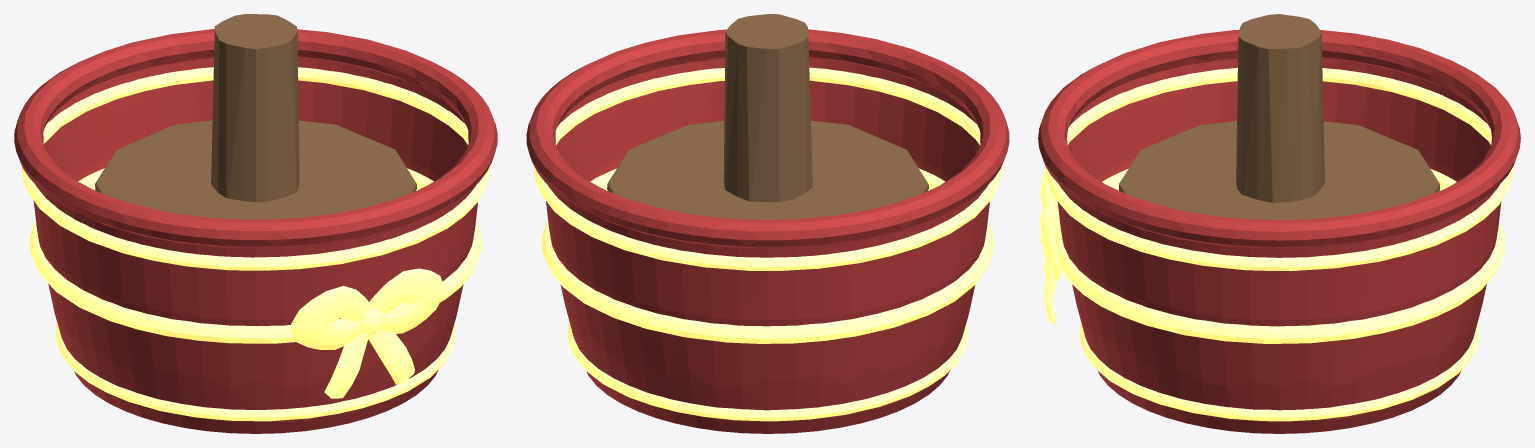
Rendered from Pieza_Maceta.glb.
3 views of the same model, side by side, from view 1: azimuth 30°, elevation 25°; view 2: azimuth 150°, elevation 25°; view 3: azimuth 270°, elevation 25° (orthographic).
Visible parts, largest first — view 1: Pieza_Maceta; view 2: Pieza_Maceta; view 3: Pieza_Maceta.
Part boxes in pixels (x1,y1,x2,y2): Pieza_Maceta: (14,14,497,433); Pieza_Maceta: (526,14,1009,433); Pieza_Maceta: (1038,14,1520,433).
Size of the model in its own units: 0.55 by 0.4172 by 0.55.
